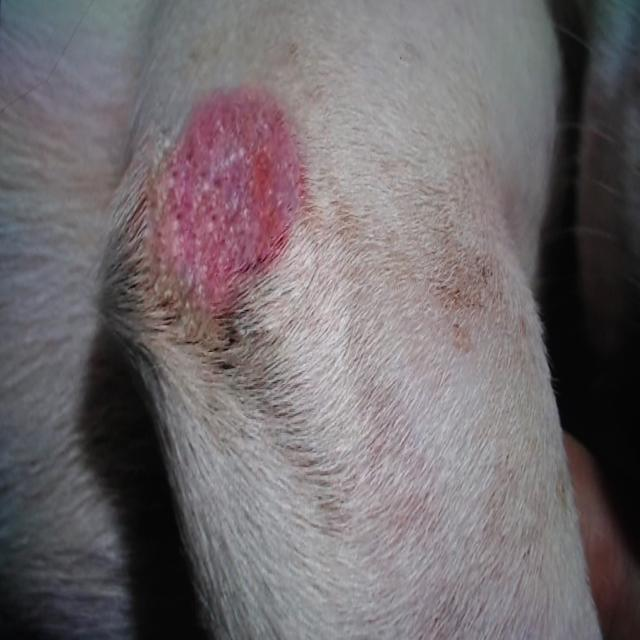ringworm: (150, 47, 302, 337)
